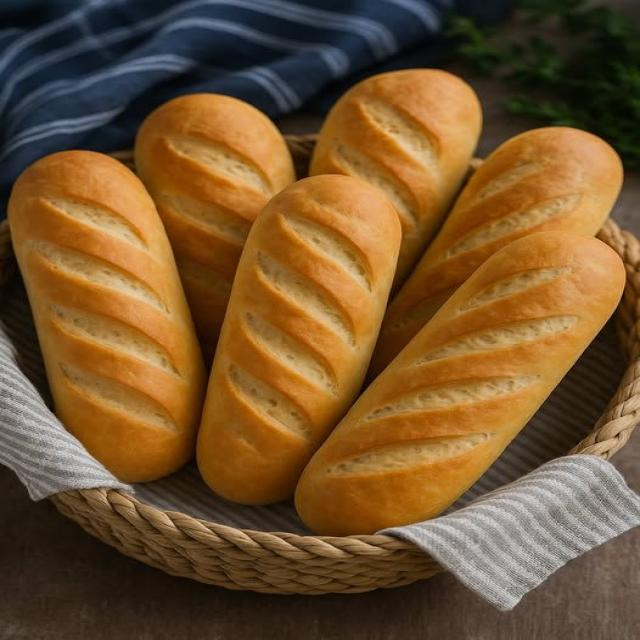bread: (296, 232, 625, 535), (198, 176, 401, 503), (9, 151, 205, 481), (369, 127, 622, 377), (136, 94, 294, 360), (311, 69, 481, 286)
